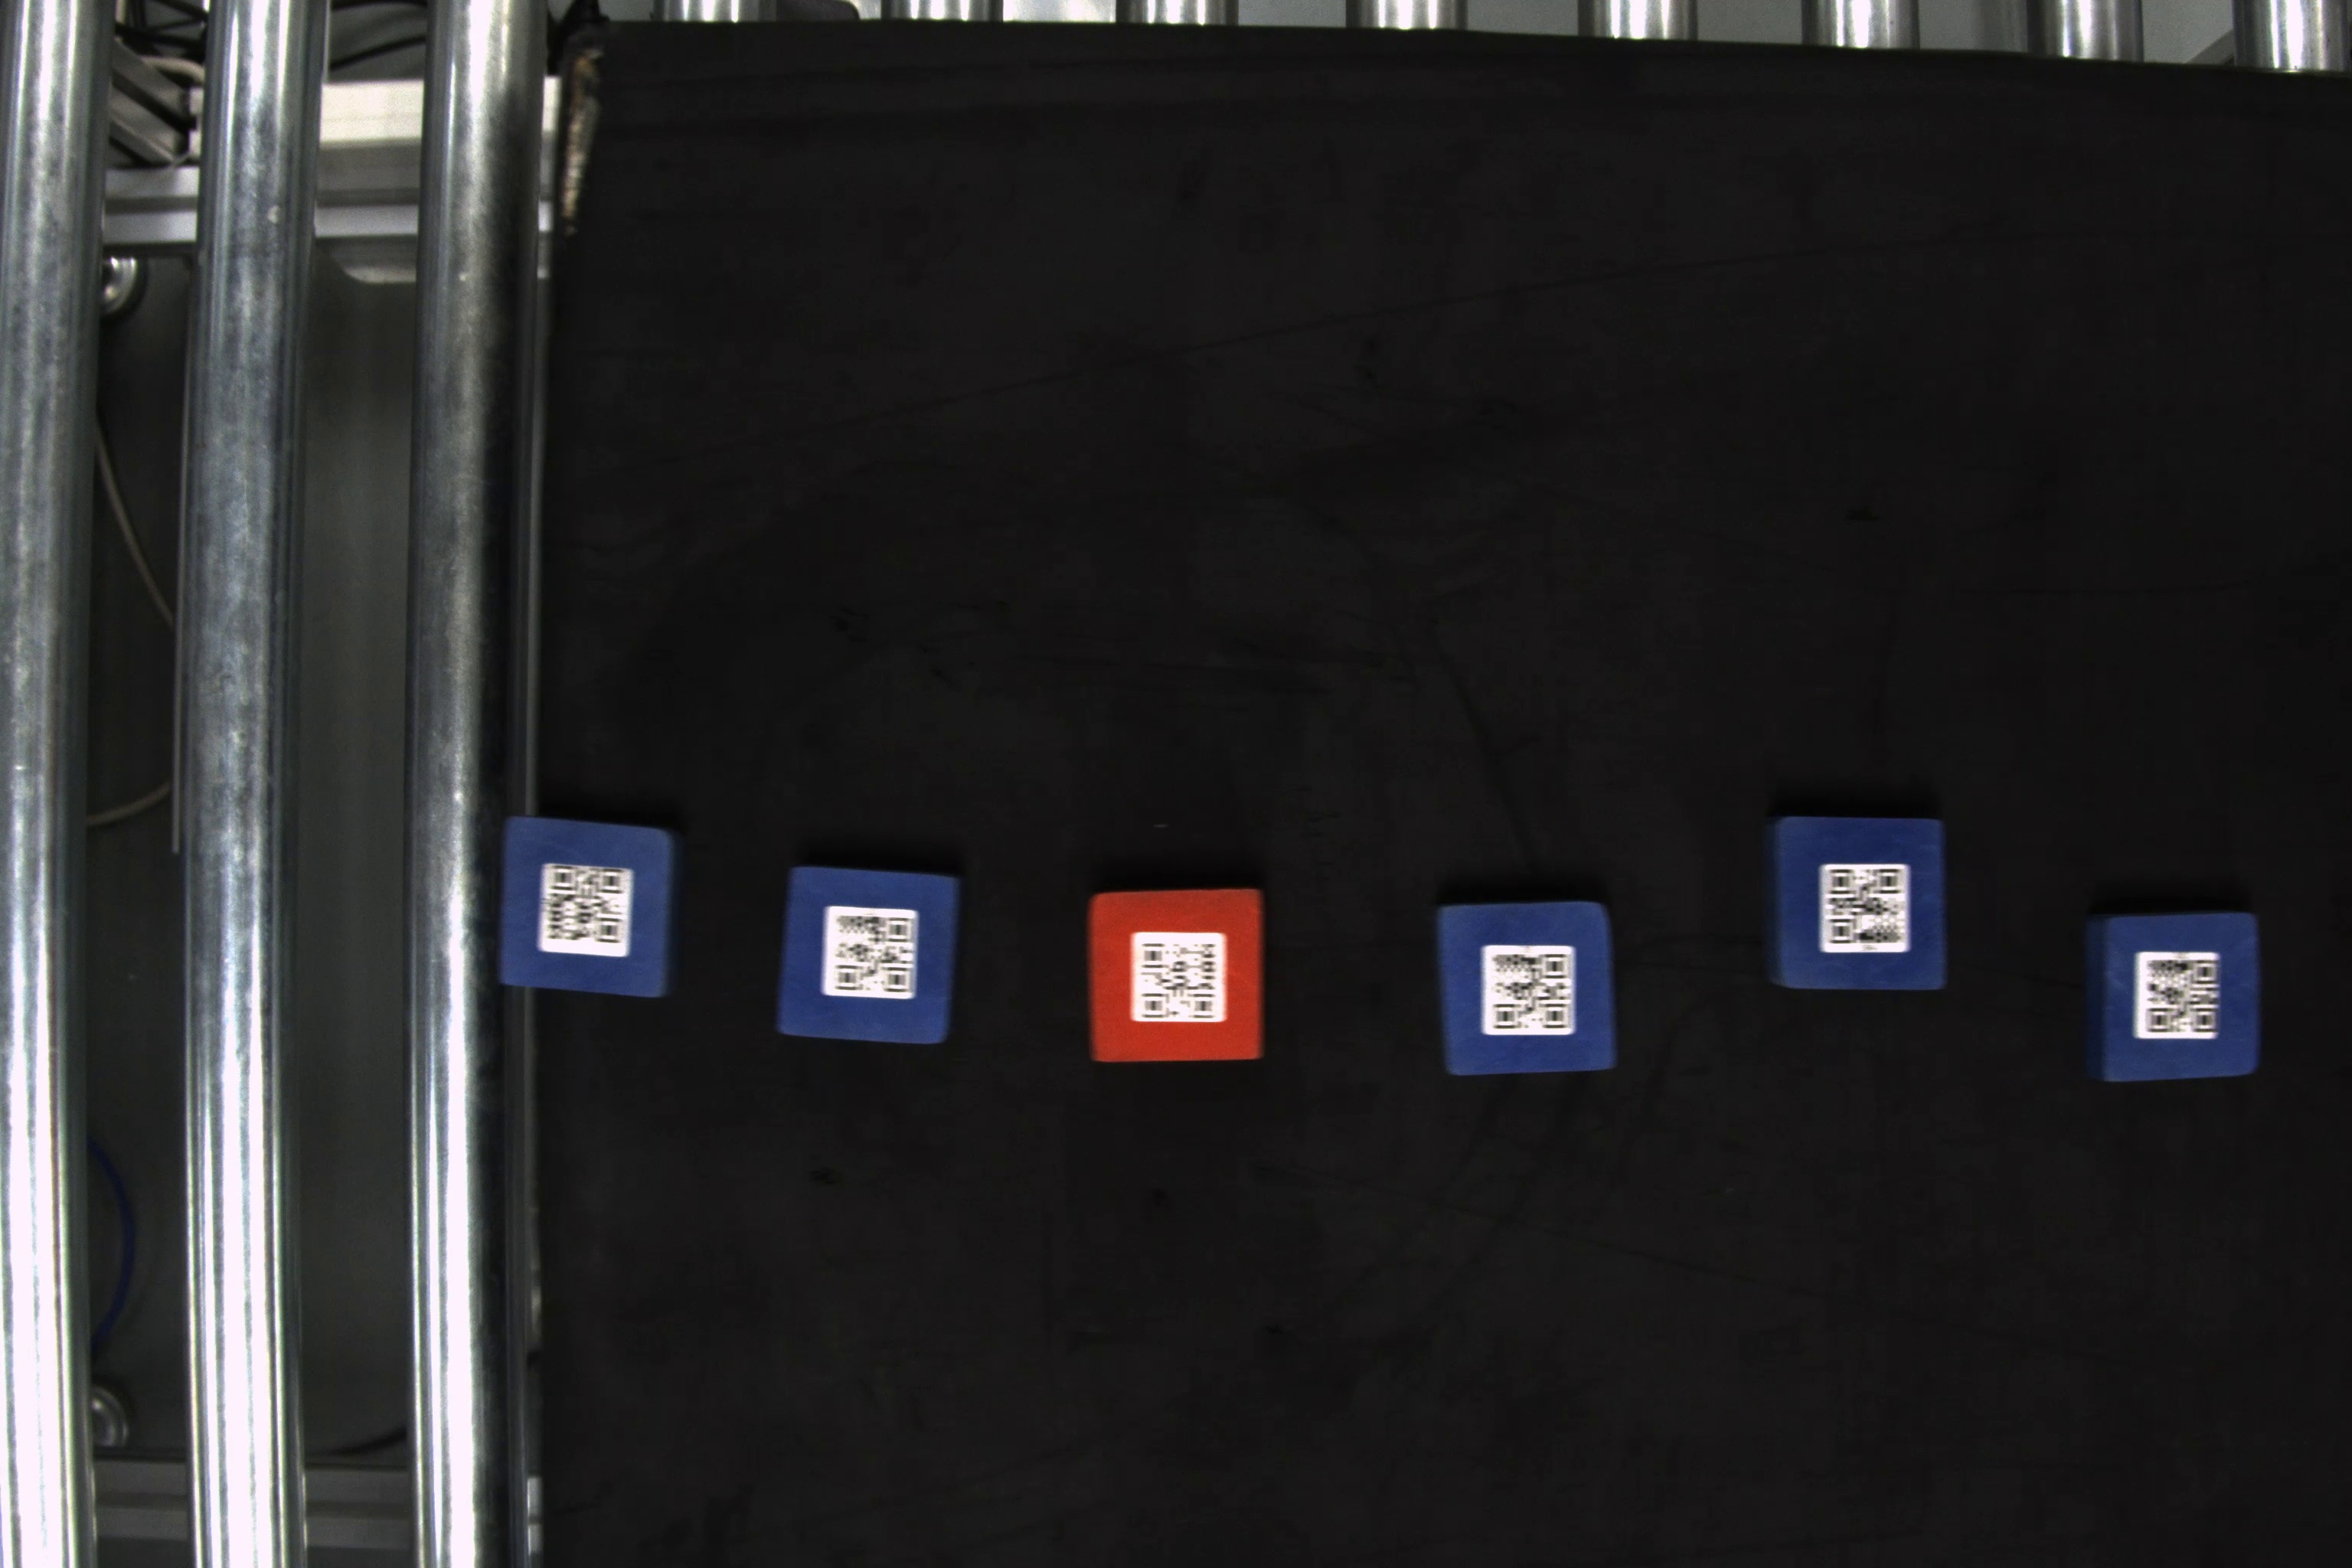wood: (502, 810, 693, 1004), (777, 864, 968, 1050), (1430, 898, 1622, 1078), (1766, 814, 1953, 996), (1085, 887, 1267, 1069), (2077, 906, 2264, 1083)
